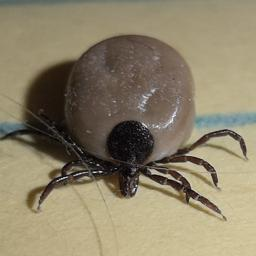Ixodes scapularis: (5, 35, 250, 222)
